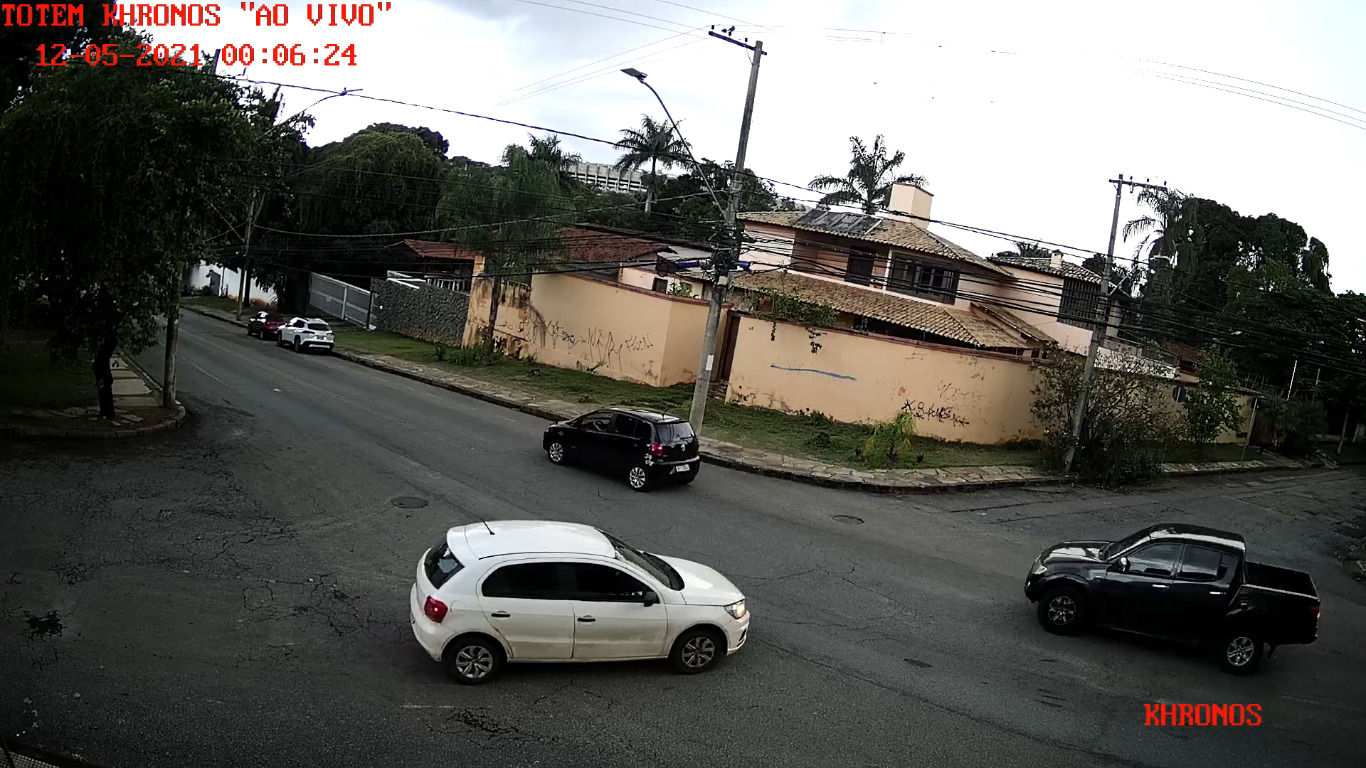car: (409, 520, 749, 685), (1024, 522, 1320, 672), (542, 405, 700, 492)
